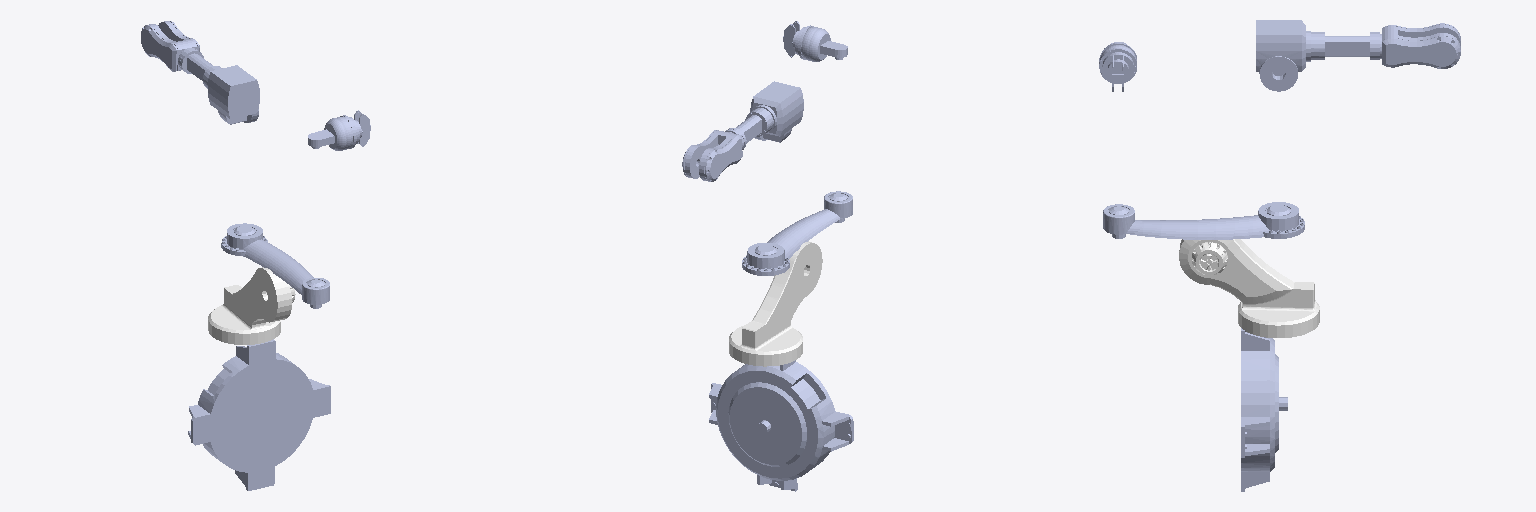
URDF robot description (robot_arm_urdf):
<?xml version="1.0" encoding="utf-8"?>
<!-- This URDF was automatically created by SolidWorks to URDF Exporter! Originally created by [author] ([email redacted]) 
     Commit Version: 1.5.1-0-g916b5db  Build Version: 1.5.7152.31018
     For more information, please see http://wiki.ros.org/sw_urdf_exporter -->
<robot
  name="robot_arm_urdf" xmlns:xacro="https://ros.org/wiki/xacro">
  <link
    name="base_link">
    <inertial>
      <origin
        xyz="4.1633E-17 0 0.073876"
        rpy="0 0 0" />
      <mass
        value="17.147" />
      <inertia
        ixx="0.192"
        ixy="-4.9423E-10"
        ixz="1.2752E-17"
        iyy="0.192"
        iyz="2.6417E-18"
        izz="0.29544" />
    </inertial>
    <visual>
      <origin
        xyz="0 0 0"
        rpy="0 0 0" />
      <geometry>
        <mesh
          filename="package://six_dof_arm/meshes/base_link.STL" />
      </geometry>
      <material
        name="">
        <color
          rgba="0.79216 0.81961 0.93333 1" />
      </material>
    </visual>
    <collision>
      <origin
        xyz="0 0 0"
        rpy="0 0 0" />
      <geometry>
        <mesh
          filename="package://six_dof_arm/meshes/base_link.STL" />
      </geometry>
    </collision>
  </link>
  <link
    name="link_1">
    <inertial>
      <origin
        xyz="-2.5757E-14 0.11047 -7.8988E-11"
        rpy="0 0 0" />
      <mass
        value="3.0905" />
      <inertia
        ixx="0.026302"
        ixy="-2.5267E-15"
        ixz="-1.4177E-12"
        iyy="0.019632"
        iyz="-7.4535E-12"
        izz="0.025388" />
    </inertial>
    <visual>
      <origin
        xyz="0 0 0"
        rpy="0 0 0" />
      <geometry>
        <mesh
          filename="package://six_dof_arm/meshes/link_1.STL" />
      </geometry>
      <material
        name="">
        <color
          rgba="1 1 1 1" />
      </material>
    </visual>
    <collision>
      <origin
        xyz="0 0 0"
        rpy="0 0 0" />
      <geometry>
        <mesh
          filename="package://six_dof_arm/meshes/link_1.STL" />
      </geometry>
    </collision>
  </link>
  <joint
    name="joint_1"
    type="revolute">
    <origin
      xyz="0 0 0.2"
      rpy="1.5708 0 1.5708" />
    <parent
      link="base_link" />
    <child
      link="link_1" />
    <axis
      xyz="0 1 0" />
    <limit
      lower="0"
      upper="3.142"
      effort="300"
      velocity="3" />
  </joint>
  <link
    name="link_2">
    <inertial>
      <origin
        xyz="-1.1102E-16 0.16752 -2.498E-16"
        rpy="0 0 0" />
      <mass
        value="5.5867" />
      <inertia
        ixx="0.12632"
        ixy="8.4877E-17"
        ixz="7.8685E-19"
        iyy="0.011401"
        iyz="1.4432E-16"
        izz="0.12911" />
    </inertial>
    <visual>
      <origin
        xyz="0 0 0"
        rpy="0 0 0" />
      <geometry>
        <mesh
          filename="package://six_dof_arm/meshes/link_2.STL" />
      </geometry>
      <material
        name="">
        <color
          rgba="0.79216 0.81961 0.93333 1" />
      </material>
    </visual>
    <collision>
      <origin
        xyz="0 0 0"
        rpy="0 0 0" />
      <geometry>
        <mesh
          filename="package://six_dof_arm/meshes/link_2.STL" />
      </geometry>
    </collision>
  </link>
  <joint
    name="joint_2"
    type="revolute">
    <origin
      xyz="0 0.205 0"
      rpy="0 0 0" />
    <parent
      link="link_1" />
    <child
      link="link_2" />
    <axis
      xyz="0 0 1" />
    <limit
      lower="-1.57"
      upper="1.57"
      effort="200"
      velocity="3" />
  </joint>
  <link
    name="link_3">
    <inertial>
      <origin
        xyz="-0.17893 0 -1.249E-16"
        rpy="0 0 0" />
      <mass
        value="2.8262" />
      <inertia
        ixx="0.0074041"
        ixy="-1.7927E-17"
        ixz="4.2672E-17"
        iyy="0.028552"
        iyz="-3.4736E-10"
        izz="0.025128" />
    </inertial>
    <visual>
      <origin
        xyz="0 0 0"
        rpy="0 0 0" />
      <geometry>
        <mesh
          filename="package://six_dof_arm/meshes/link_3.STL" />
      </geometry>
      <material
        name="">
        <color
          rgba="0.79216 0.81961 0.93333 1" />
      </material>
    </visual>
    <collision>
      <origin
        xyz="0 0 0"
        rpy="0 0 0" />
      <geometry>
        <mesh
          filename="package://six_dof_arm/meshes/link_3.STL" />
      </geometry>
    </collision>
  </link>
  <joint
    name="joint_3"
    type="revolute">
    <origin
      xyz="0 0.4 0"
      rpy="0 0 0" />
    <parent
      link="link_2" />
    <child
      link="link_3" />
    <axis
      xyz="0 0 1" />
    <limit
      lower="0"
      upper="3.142"
      effort="200"
      velocity="3" />
  </joint>
  <link
    name="link_4">
    <inertial>
      <origin
        xyz="-0.051672 -2.2204E-16 -1.1102E-16"
        rpy="0 0 0" />
      <mass
        value="1.8097" />
      <inertia
        ixx="0.0023112"
        ixy="-9.6437E-18"
        ixz="-9.9829E-19"
        iyy="0.0096102"
        iyz="1.3194E-19"
        izz="0.0093908" />
    </inertial>
    <visual>
      <origin
        xyz="0 0 0"
        rpy="0 0 0" />
      <geometry>
        <mesh
          filename="package://six_dof_arm/meshes/link_4.STL" />
      </geometry>
      <material
        name="">
        <color
          rgba="0.79216 0.81961 0.93333 1" />
      </material>
    </visual>
    <collision>
      <origin
        xyz="0 0 0"
        rpy="0 0 0" />
      <geometry>
        <mesh
          filename="package://six_dof_arm/meshes/link_4.STL" />
      </geometry>
    </collision>
  </link>
  <joint
    name="joint_4"
    type="revolute">
    <origin
      xyz="-0.35 0 0"
      rpy="0 0 1.5708" />
    <parent
      link="link_3" />
    <child
      link="link_4" />
    <axis
      xyz="0 0 1" />
    <limit
      lower="0"
      upper="-3.142"
      effort="200"
      velocity="3" />
  </joint>
  <link
    name="link_5">
    <inertial>
      <origin
        xyz="-0.018544 0 -2.7756E-17"
        rpy="0 0 0" />
      <mass
        value="0.19053" />
      <inertia
        ixx="0.00030197"
        ixy="1.6611E-20"
        ixz="3.6309E-21"
        iyy="0.00022817"
        iyz="-1.9664E-11"
        izz="0.00011843" />
    </inertial>
    <visual>
      <origin
        xyz="0 0 0"
        rpy="0 0 0" />
      <geometry>
        <mesh
          filename="package://six_dof_arm/meshes/link_5.STL" />
      </geometry>
      <material
        name="">
        <color
          rgba="0.79216 0.81961 0.93333 1" />
      </material>
    </visual>
    <collision>
      <origin
        xyz="0 0 0"
        rpy="0 0 0" />
      <geometry>
        <mesh
          filename="package://six_dof_arm/meshes/link_5.STL" />
      </geometry>
    </collision>
  </link>
  <joint
    name="joint_5"
    type="revolute">
    <origin
      xyz="-0.188 0 0"
      rpy="0 0 0" />
    <parent
      link="link_4" />
    <child
      link="link_5" />
    <axis
      xyz="1 0 0" />
    <limit
      lower="0"
      upper="3.142"
      effort="200"
      velocity="3" />
  </joint>
  <link
    name="link_6">
    <inertial>
      <origin
        xyz="-0.60237 0.4 -0.016013"
        rpy="0 0 0" />
      <mass
        value="0.11653" />
      <inertia
        ixx="3.9246E-05"
        ixy="-9.4878E-20"
        ixz="1.0258E-05"
        iyy="7.1189E-05"
        iyz="-3.4206E-20"
        izz="8.4875E-05" />
    </inertial>
    <visual>
      <origin
        xyz="0 0 0"
        rpy="0 0 0" />
      <geometry>
        <mesh
          filename="package://six_dof_arm/meshes/link_6.STL" />
      </geometry>
      <material
        name="">
        <color
          rgba="0.79216 0.81961 0.93333 1" />
      </material>
    </visual>
    <collision>
      <origin
        xyz="0 0 0"
        rpy="0 0 0" />
      <geometry>
        <mesh
          filename="package://six_dof_arm/meshes/link_6.STL" />
      </geometry>
    </collision>
  </link>
  <joint
    name="joint_6"
    type="prismatic">
    <origin
      xyz="0.54 -0.4 0"
      rpy="0 0 0" />
    <parent
      link="link_5" />
    <child
      link="link_6" />
    <axis
      xyz="0 0 -1" />
    <limit
      lower="0"
      upper="0.03"
      effort="100"
      velocity="3" />
  </joint>
  <link
    name="link_7">
    <inertial>
      <origin
        xyz="-0.60237 0.4 -0.016013"
        rpy="0 0 0" />
      <mass
        value="0.11653" />
      <inertia
        ixx="3.9246E-05"
        ixy="-4.7946E-20"
        ixz="1.0258E-05"
        iyy="7.1189E-05"
        iyz="-3.946E-20"
        izz="8.4875E-05" />
    </inertial>
    <visual>
      <origin
        xyz="0 0 0"
        rpy="0 0 0" />
      <geometry>
        <mesh
          filename="package://six_dof_arm/meshes/link_7.STL" />
      </geometry>
      <material
        name="">
        <color
          rgba="0.79216 0.81961 0.93333 1" />
      </material>
    </visual>
    <collision>
      <origin
        xyz="0 0 0"
        rpy="0 0 0" />
      <geometry>
        <mesh
          filename="package://six_dof_arm/meshes/link_7.STL" />
      </geometry>
    </collision>
  </link>
  <joint
    name="joint_7"
    type="prismatic">
    <origin
      xyz="0.54 0.4 0"
      rpy="3.1416 0 0" />
    <parent
      link="link_5" />
    <child
      link="link_7" />
    <axis
      xyz="0 0 1" />
    <limit
      lower="-0.03"
      upper="0"
      effort="100"
      velocity="3" />
  </joint>
</robot>

--- What the picture shows (computed from the rendered views, not written in the file) ---
3 views of the same robot in one strip: view 1: azimuth 30°, elevation 25°; view 2: azimuth 150°, elevation 25°; view 3: azimuth 270°, elevation 25° (orthographic).
Model robot_arm_urdf with 8 links and 7 joints (5 revolute, 2 prismatic), rooted at base_link, posed all joints at 0.
Links seen in each view (by area): view 1: base_link, link_3, link_1, link_2, link_4; view 2: base_link, link_1, link_3, link_2, link_4; view 3: link_3, link_1, base_link, link_2, link_4.
Link boxes in pixels (x1,y1,x2,y2): base_link: (188,339,330,490); link_3: (141,21,259,124); link_1: (208,267,295,344); link_2: (221,223,329,308); link_4: (308,110,370,150); base_link: (709,360,853,491); link_1: (729,241,822,366); link_3: (682,81,803,181); link_2: (742,191,852,275); link_4: (783,21,847,61); link_3: (1256,20,1460,91); link_1: (1179,239,1319,337); base_link: (1241,328,1287,491); link_2: (1103,202,1304,239); link_4: (1099,42,1136,91).
Bounding box of the posed robot: 0.3911 × 0.7927 × 1.1 m (x, y, z).
5 mesh visuals loaded from 8 distinct referenced files (5 binary STL); not drawn: 3 (reference not matched to a file when rendering).